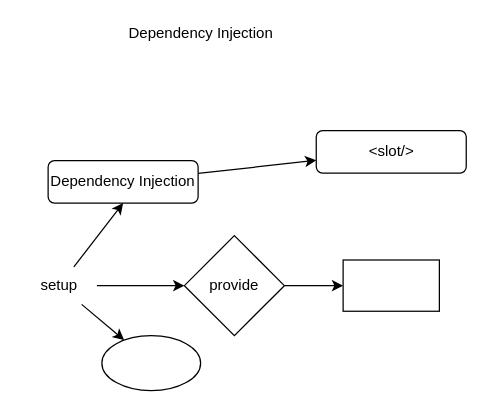
Some shapes in this 488 by 413 pixel diagram are drawn without their labels. Each missing label, with the centre of its shape:
"setting" goes at point 390,285.
"watch" goes at point 151,362.
